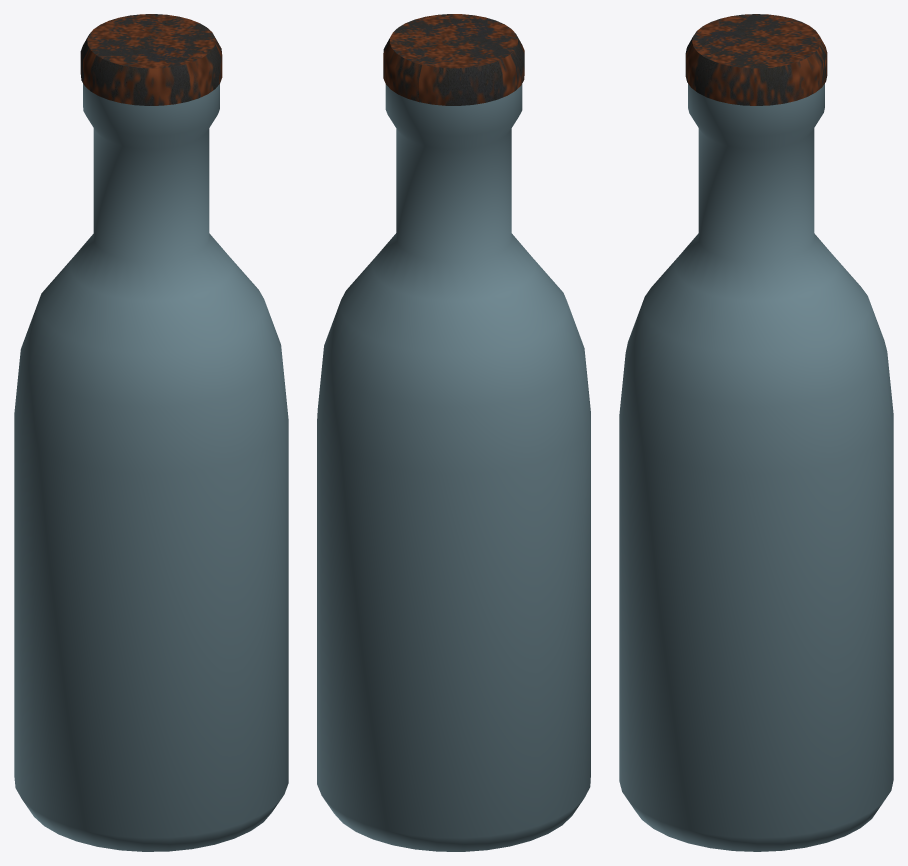
File: SM_Bottle_12f7e4d56d.fbx
The picture shows the model from 3 angles, left to right: view 1: azimuth 30°, elevation 25°; view 2: azimuth 150°, elevation 25°; view 3: azimuth 270°, elevation 25°; orthographic projection.
Visible parts, largest first — view 1: SM_Bottle_12f7e4d56d; view 2: SM_Bottle_12f7e4d56d; view 3: SM_Bottle_12f7e4d56d.
Boxes of the visible parts, <box> form: SM_Bottle_12f7e4d56d: <box>14,14,288,851</box>; SM_Bottle_12f7e4d56d: <box>317,14,590,851</box>; SM_Bottle_12f7e4d56d: <box>619,14,893,851</box>.
Size of what is drawn, in the model's own units: 12.8 by 12.8 by 39.4.
Materials: 2 (1 with a texture image).
